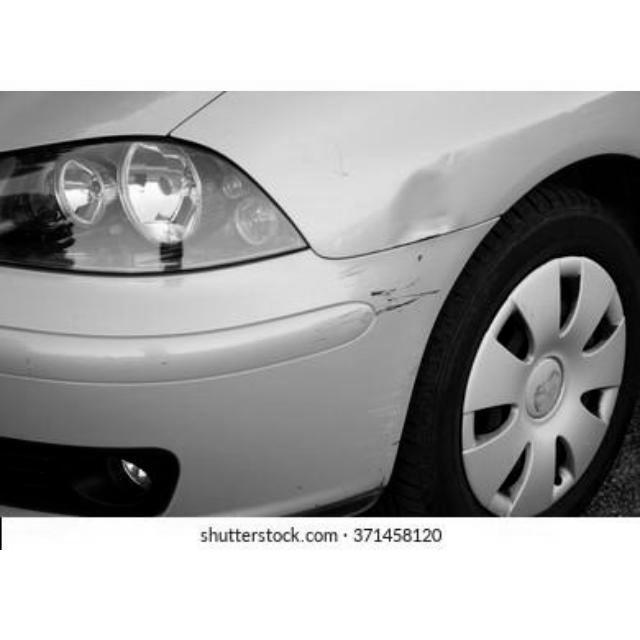fender-dent: (240, 91, 638, 274)
front-bumper-dent: (99, 252, 451, 517)
